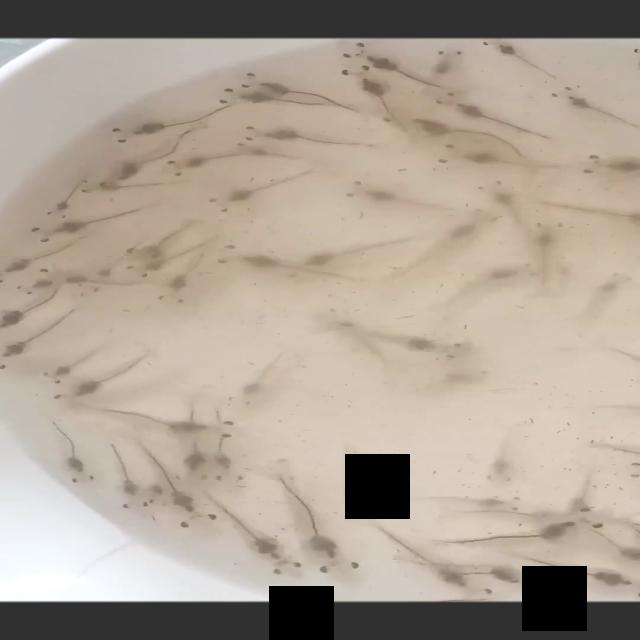shrimp4: (207, 491, 305, 580), (213, 245, 365, 286), (438, 92, 552, 138), (206, 166, 316, 213), (109, 106, 228, 146), (339, 178, 464, 214), (551, 84, 639, 128), (227, 347, 290, 407), (41, 421, 99, 486), (242, 122, 376, 148), (105, 441, 151, 514), (336, 445, 379, 521), (532, 218, 568, 294), (46, 176, 83, 220)
